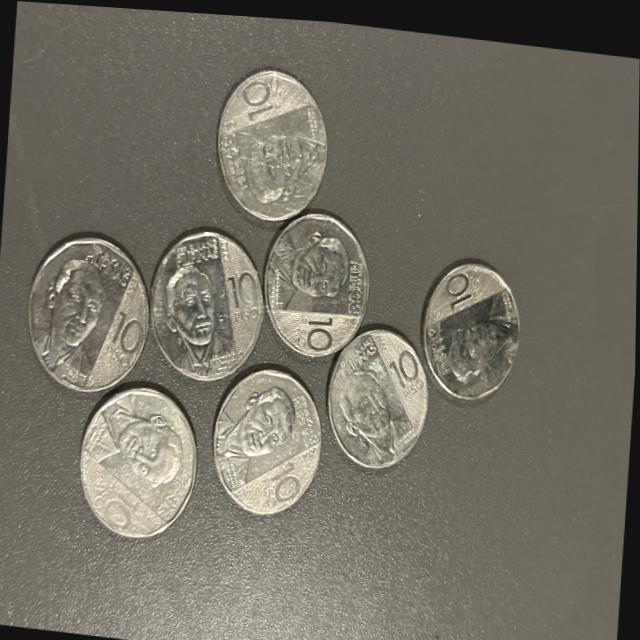10_New_Front: (36, 244, 146, 400), (215, 347, 316, 501), (153, 228, 258, 372), (87, 390, 183, 545), (314, 316, 424, 446), (214, 77, 308, 186), (288, 217, 350, 381), (427, 268, 509, 374)
